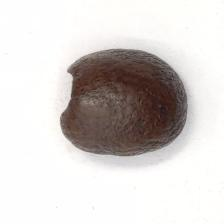NG: (58, 62, 77, 126)
